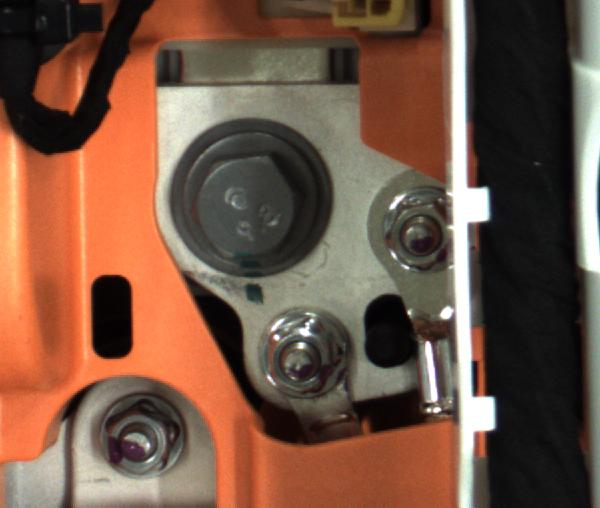nut_b: (175, 129, 329, 264)
screw_s: (253, 303, 343, 394), (93, 392, 184, 481), (373, 194, 450, 280)
